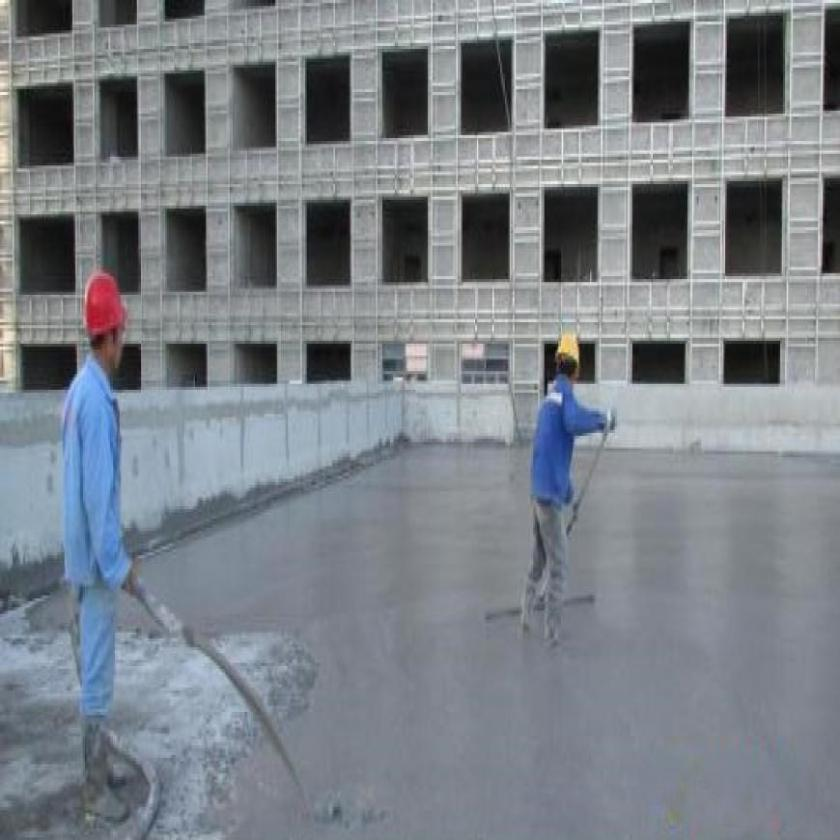Con_casco: (78, 255, 140, 386)
